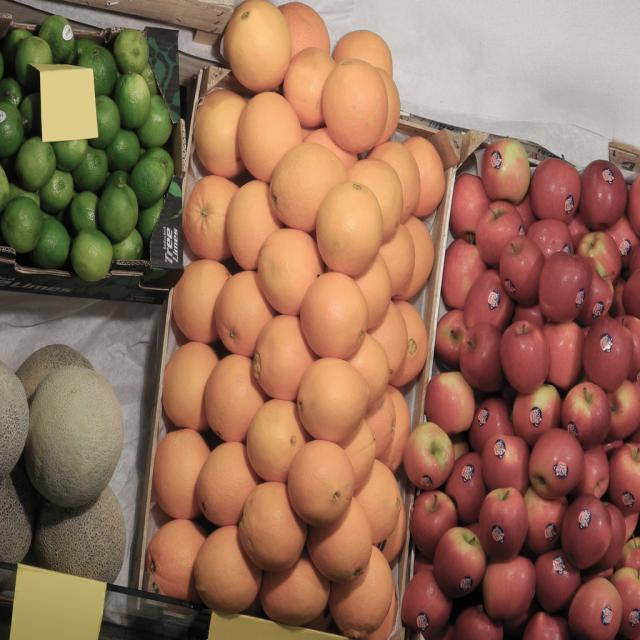Healty Apple: (400, 136, 640, 640), (406, 422, 461, 497)
